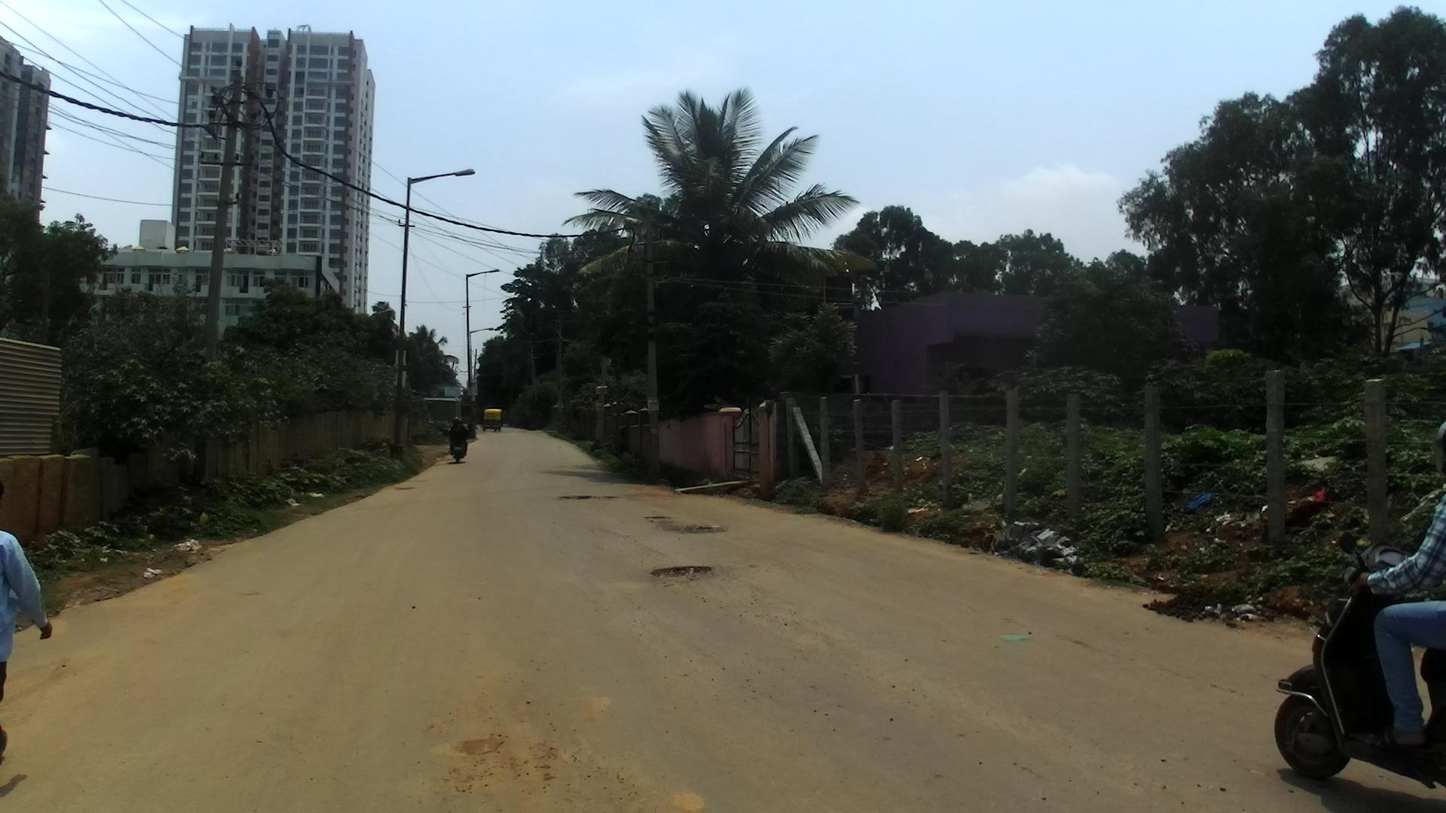streetlight: (407, 169, 475, 185), (465, 268, 501, 279), (468, 326, 494, 335)
